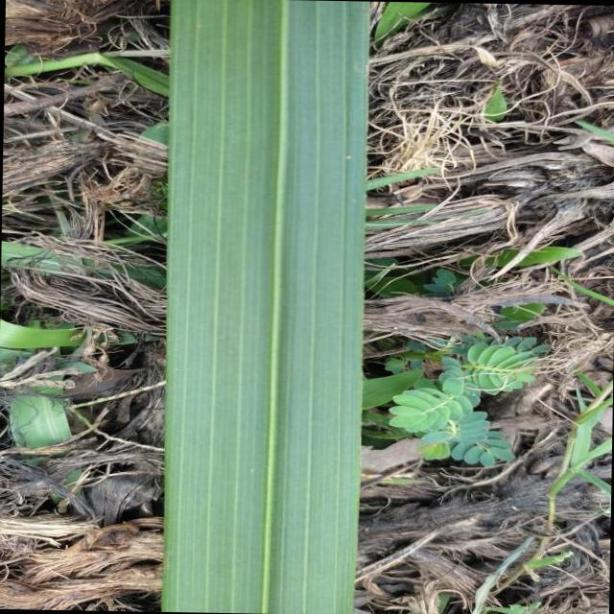Healthy: (166, 0, 366, 614)
